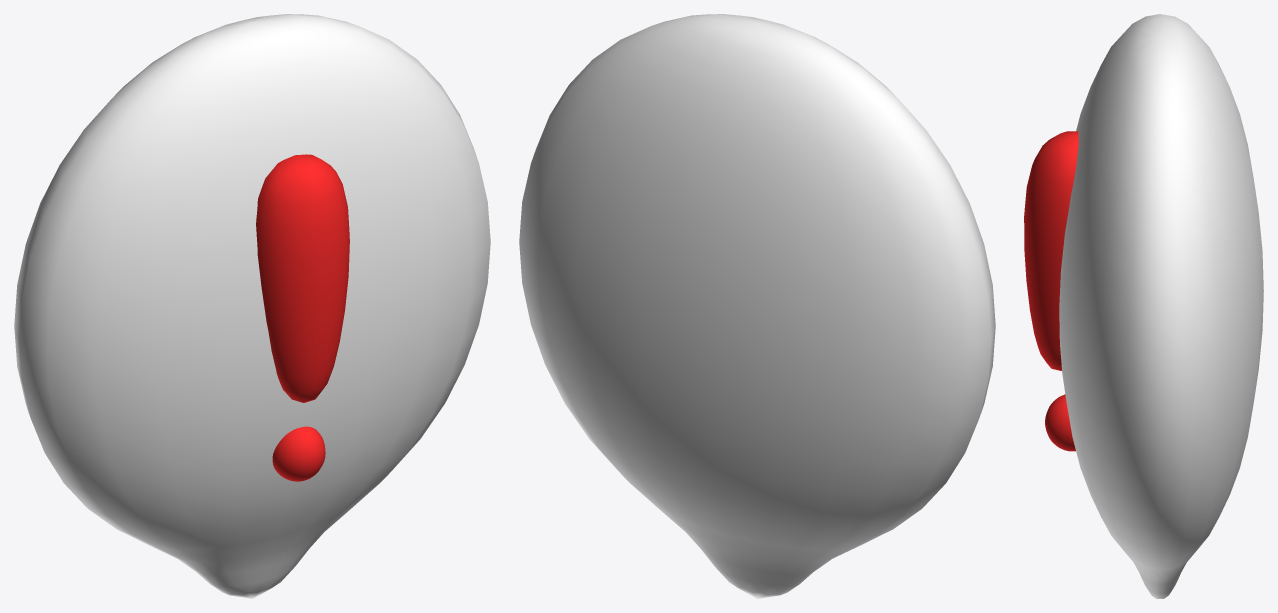
Rendered from Mark.fbx.
3 views of the same model, side by side, from view 1: azimuth 30°, elevation 25°; view 2: azimuth 150°, elevation 25°; view 3: azimuth 270°, elevation 25° (orthographic). The views are drawn at different scales.
Parts seen in each view (by area): view 1: Sphere, Sphere.001, Sphere.002; view 2: Sphere; view 3: Sphere, Sphere.001, Sphere.002.
Boxes of the visible parts, x1=… form: Sphere: x1=14, y1=14, x2=490, y2=598; Sphere.001: x1=256, y1=154, x2=349, y2=402; Sphere.002: x1=272, y1=426, x2=325, y2=481; Sphere: x1=519, y1=14, x2=995, y2=598; Sphere: x1=1059, y1=14, x2=1263, y2=598; Sphere.001: x1=1024, y1=131, x2=1078, y2=370; Sphere.002: x1=1045, y1=394, x2=1075, y2=451.
Bounding box in the file's own units: 184 × 217 × 84.08.
Materials: 1 (1 with a texture image).
